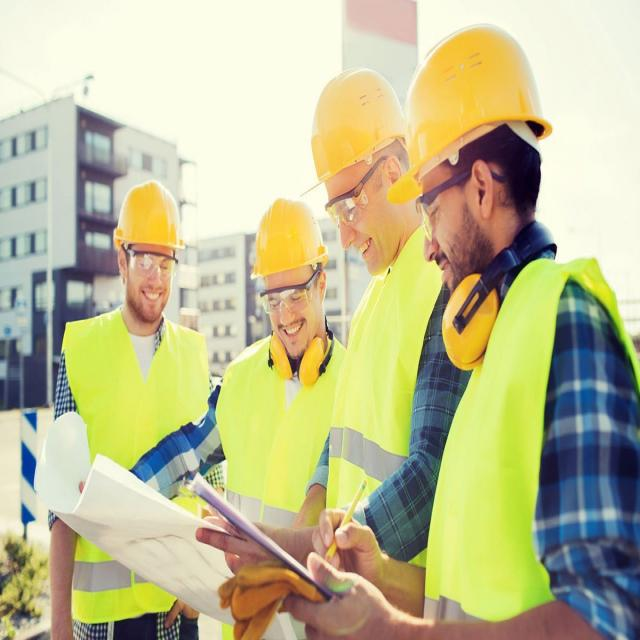Reflective-Jacket: (429, 257, 637, 625), (60, 311, 214, 628), (326, 228, 447, 569), (215, 327, 348, 546)
Safety-Helmet: (388, 19, 558, 205), (307, 62, 407, 183), (250, 190, 328, 282), (112, 176, 186, 255)
